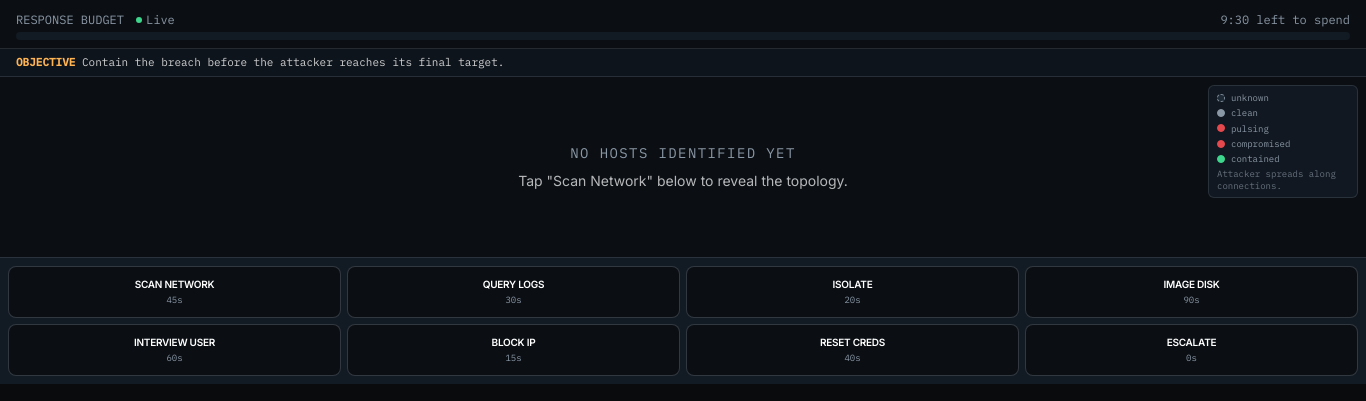
Test: ActionConsole › per-verb coachmarks › shows a coachmark on first use and still runs the verb in the same tap
Click the text "Scan Network": (174,284) left=135, top=278, right=214, bottom=291
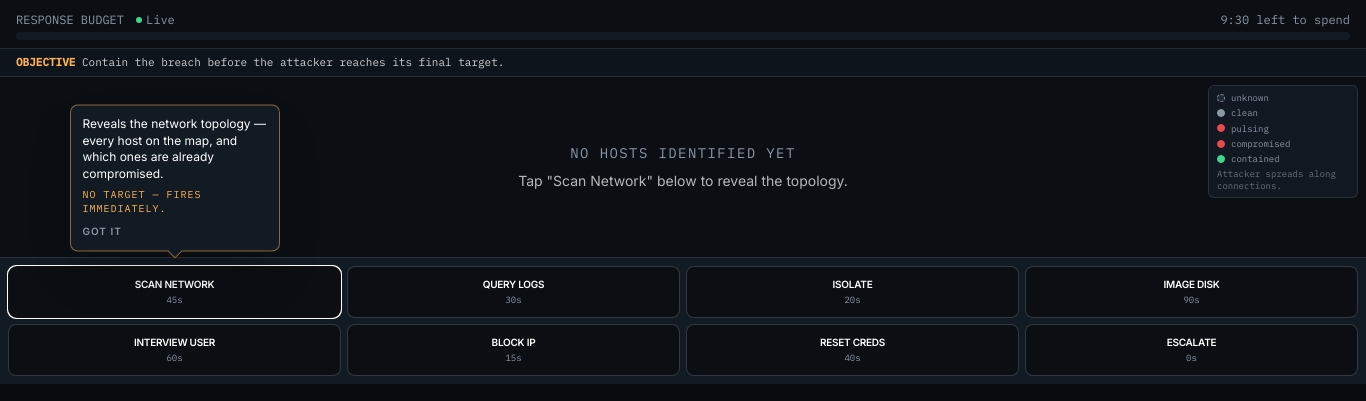
Now the tooltip shows "Reveals the network topology", box left=82, top=116, right=266, bottom=180
Now the tooltip shows "No target — fires immediately.", box left=82, top=188, right=202, bottom=214
